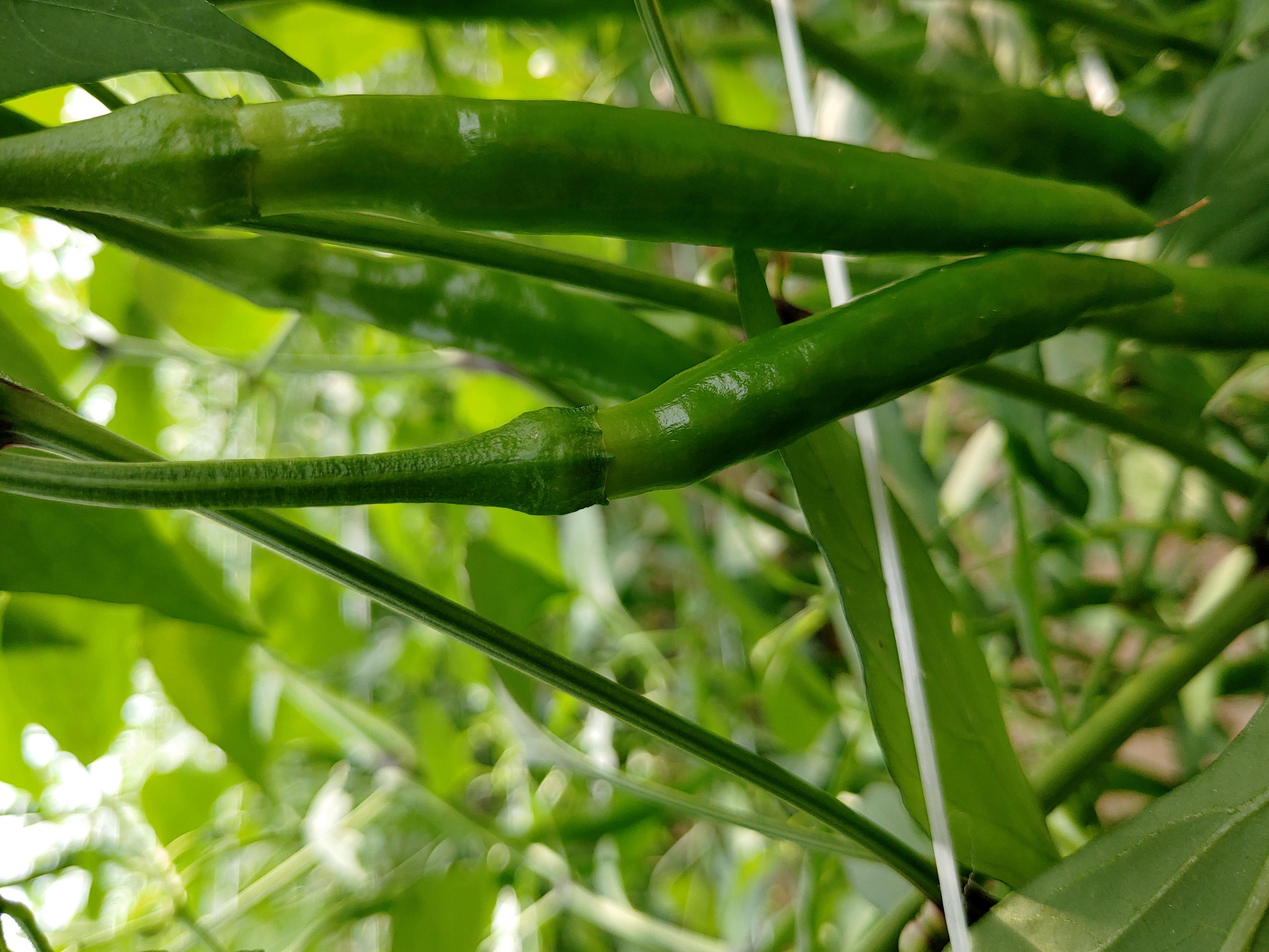Buah Cabai Sehat: (3, 243, 1179, 520), (109, 86, 1163, 254)
